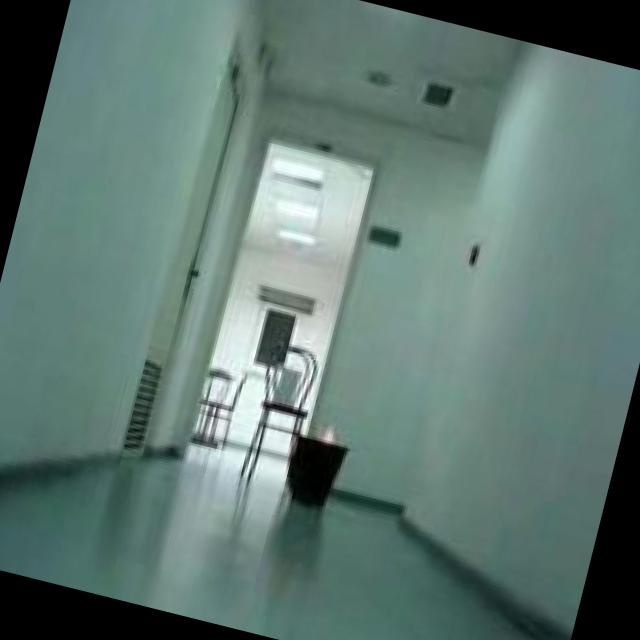Fire: (318, 423, 342, 447)
